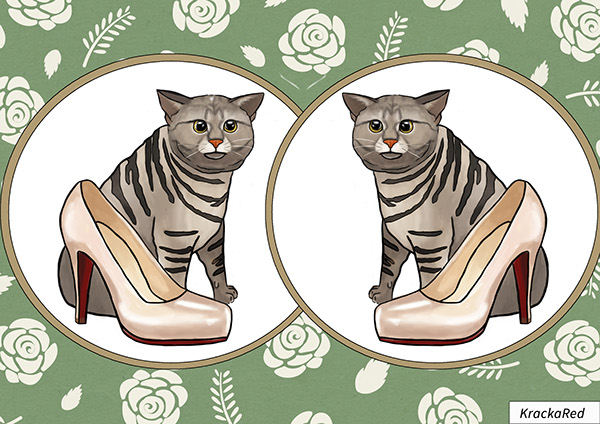cat: (49, 77, 272, 325), (333, 88, 556, 326)
